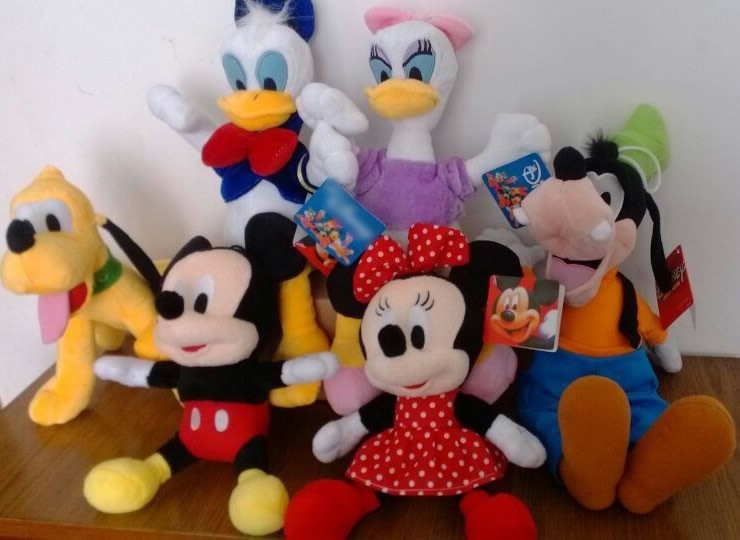Mickey: (152, 210, 305, 370)
